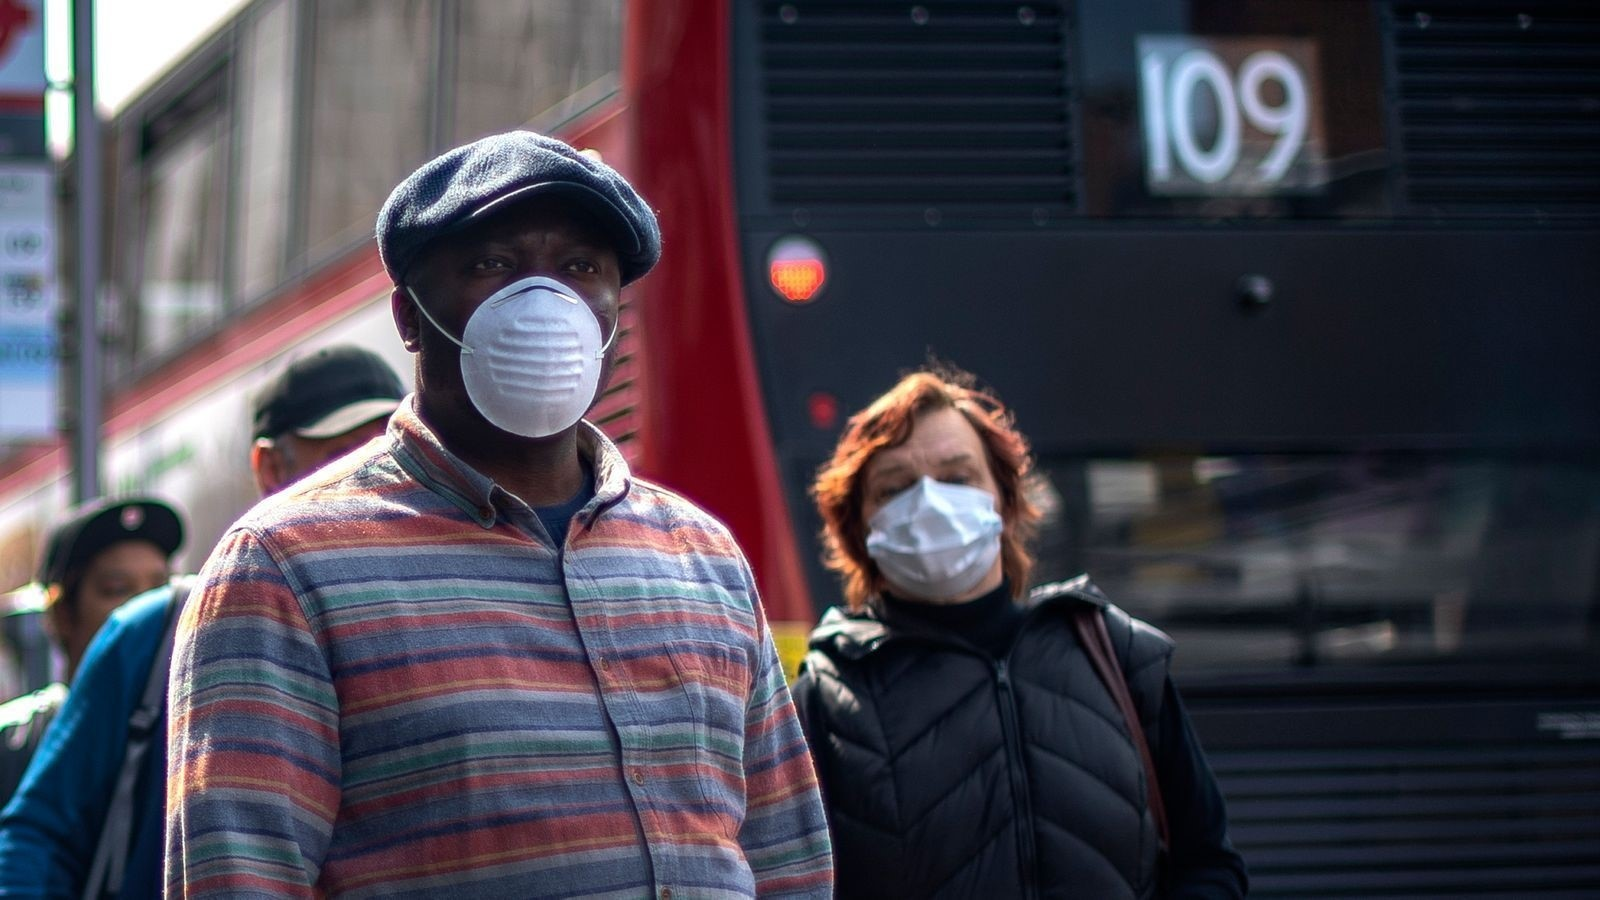face_with_mask: (375, 132, 650, 458), (829, 376, 1040, 597)
